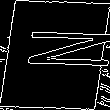N_E: (0, 33, 110, 77)
